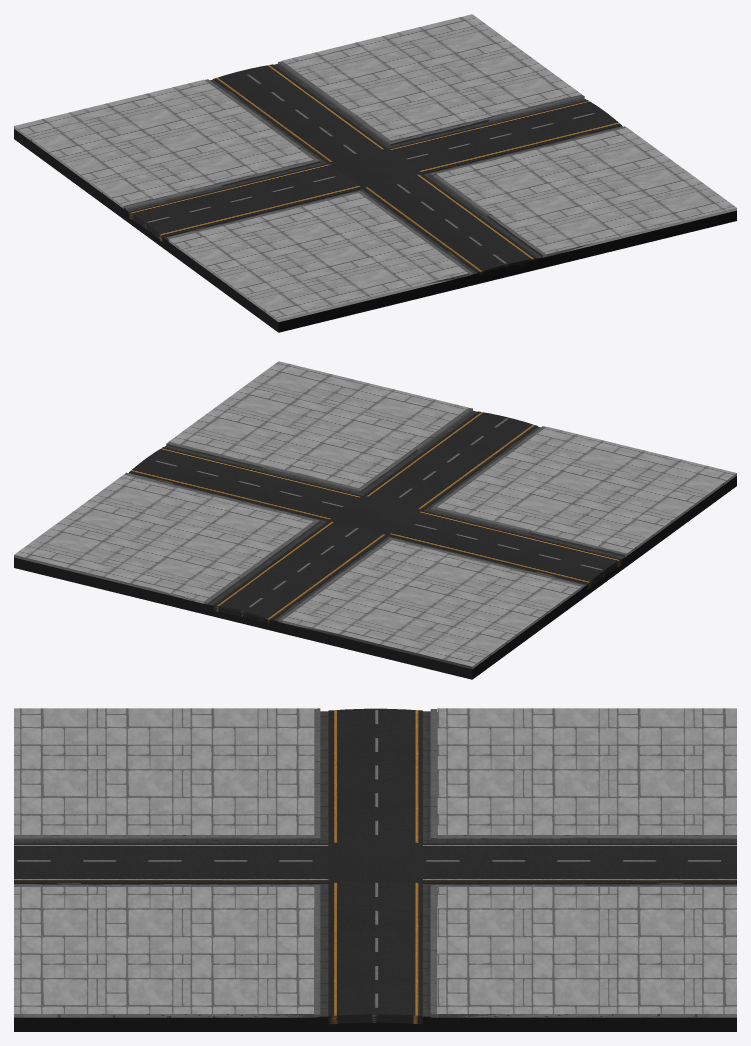
Rendered from Tile_Intersection.FBX.
The picture shows the model from 3 angles, top to bottom: view 1: azimuth 30°, elevation 25°; view 2: azimuth 150°, elevation 25°; view 3: azimuth 270°, elevation 25°; orthographic projection. The views are drawn at different scales.
Visible parts, largest first — view 1: Tile_Intersection; view 2: Tile_Intersection; view 3: Tile_Intersection.
Boxes of the visible parts, bbox=[...] form: Tile_Intersection: bbox=[14, 14, 736, 332]; Tile_Intersection: bbox=[14, 361, 736, 679]; Tile_Intersection: bbox=[14, 708, 736, 1031].
Bounding box in the file's own units: 1811 × 53.58 × 1811.
